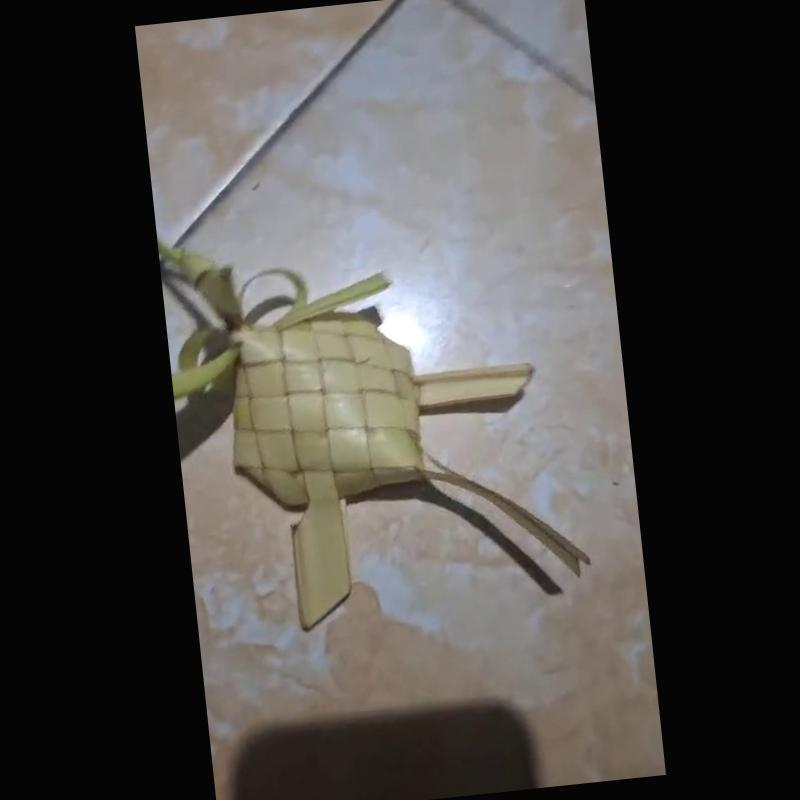Tipat Dampulan: (160, 246, 592, 632)
